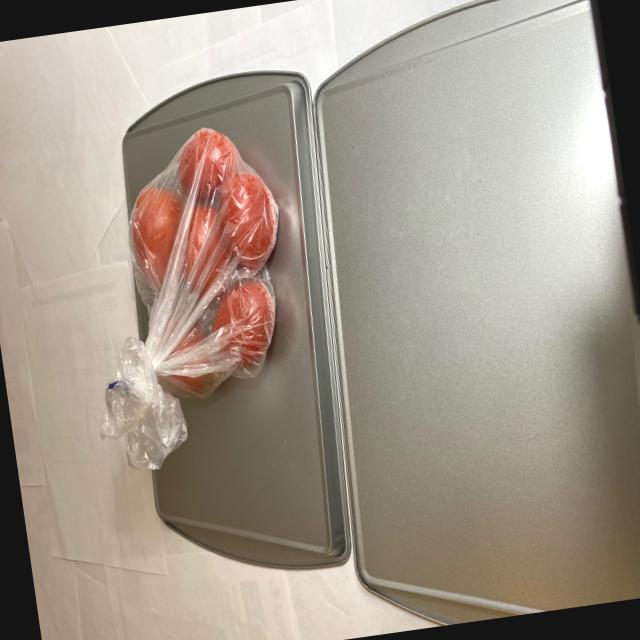tomato: (96, 114, 306, 428)
